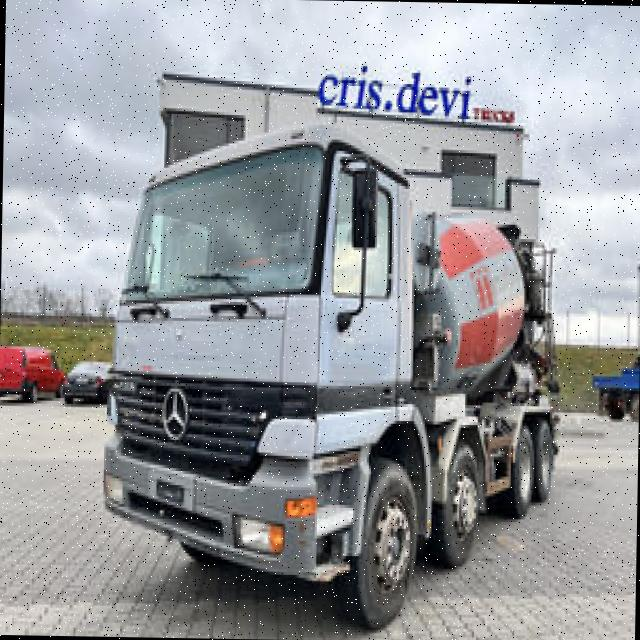Mixer Truck: (97, 115, 566, 630)
